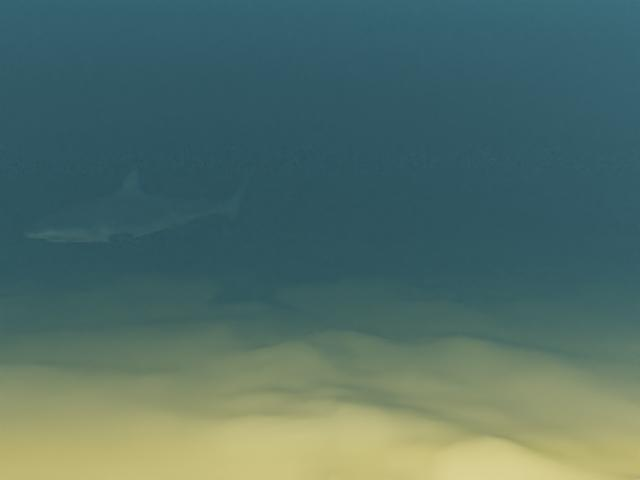Carribean Shark.001: (22, 162, 257, 252)
